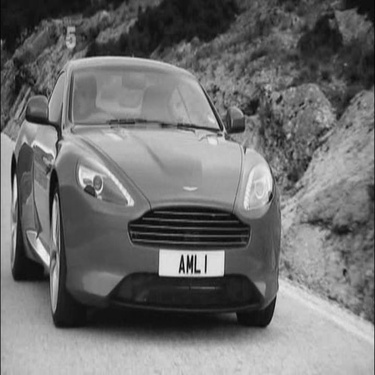car: (10, 56, 323, 342)
